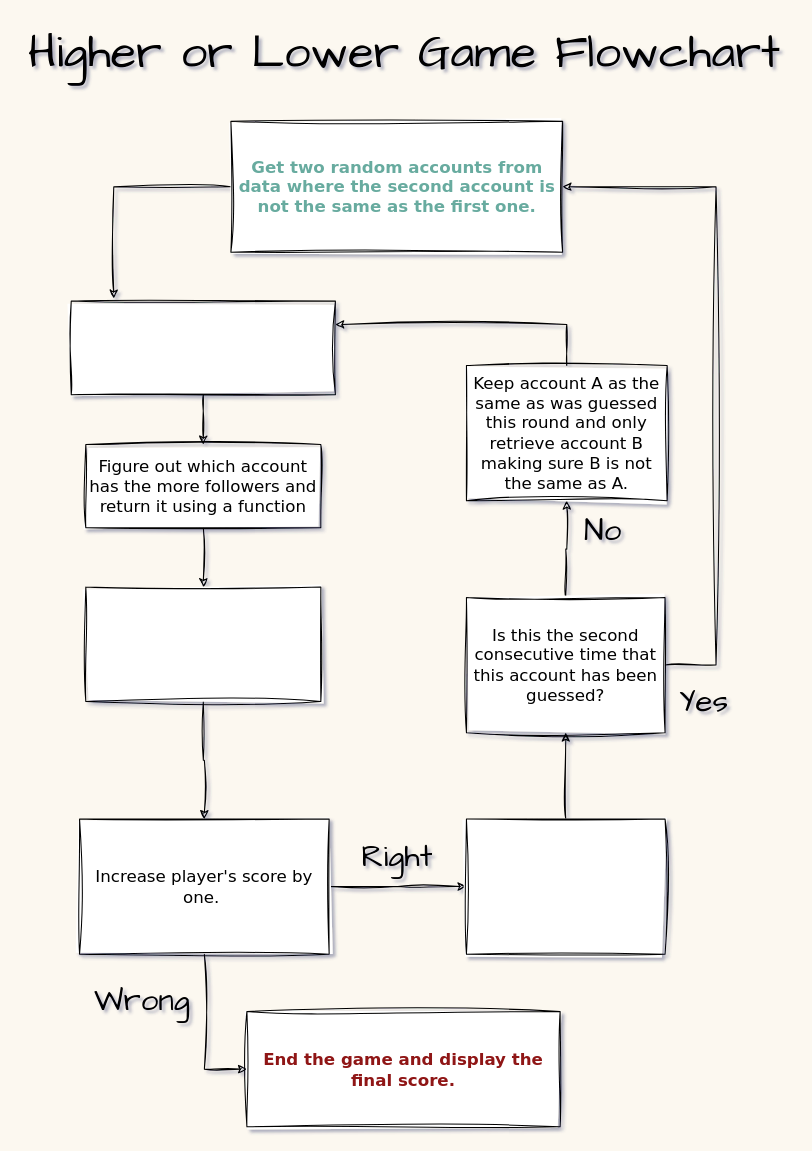
Image size: 812x1151. Some labels were removed from this diagram. The box of each missing label's shape, as (x1, y1, x2, y2) in pixels:
Ask the player if they think account A or account B has the most followers: (70, 300, 335, 395)
Did the player guess right or wrong?: (85, 586, 321, 701)
Take the guessed account and store it as account A for the next round: (465, 818, 665, 954)
